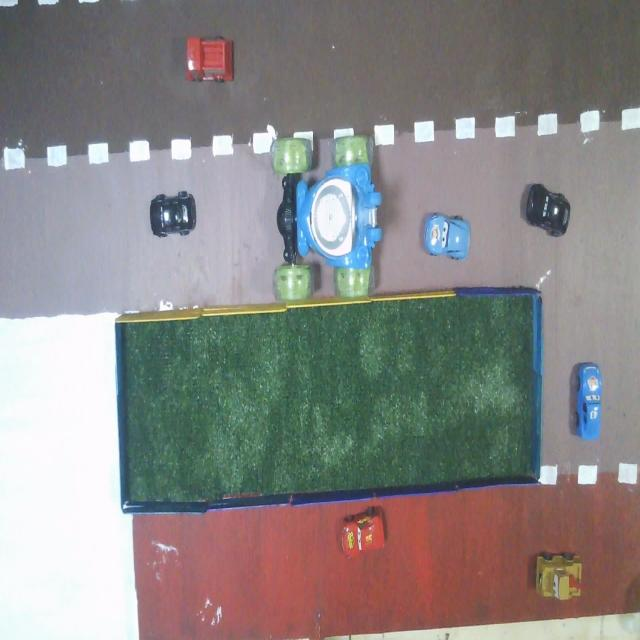driver car f: (270, 134, 382, 302)
small cars: (526, 184, 570, 237), (150, 191, 196, 237), (424, 214, 470, 259), (577, 363, 601, 439)
